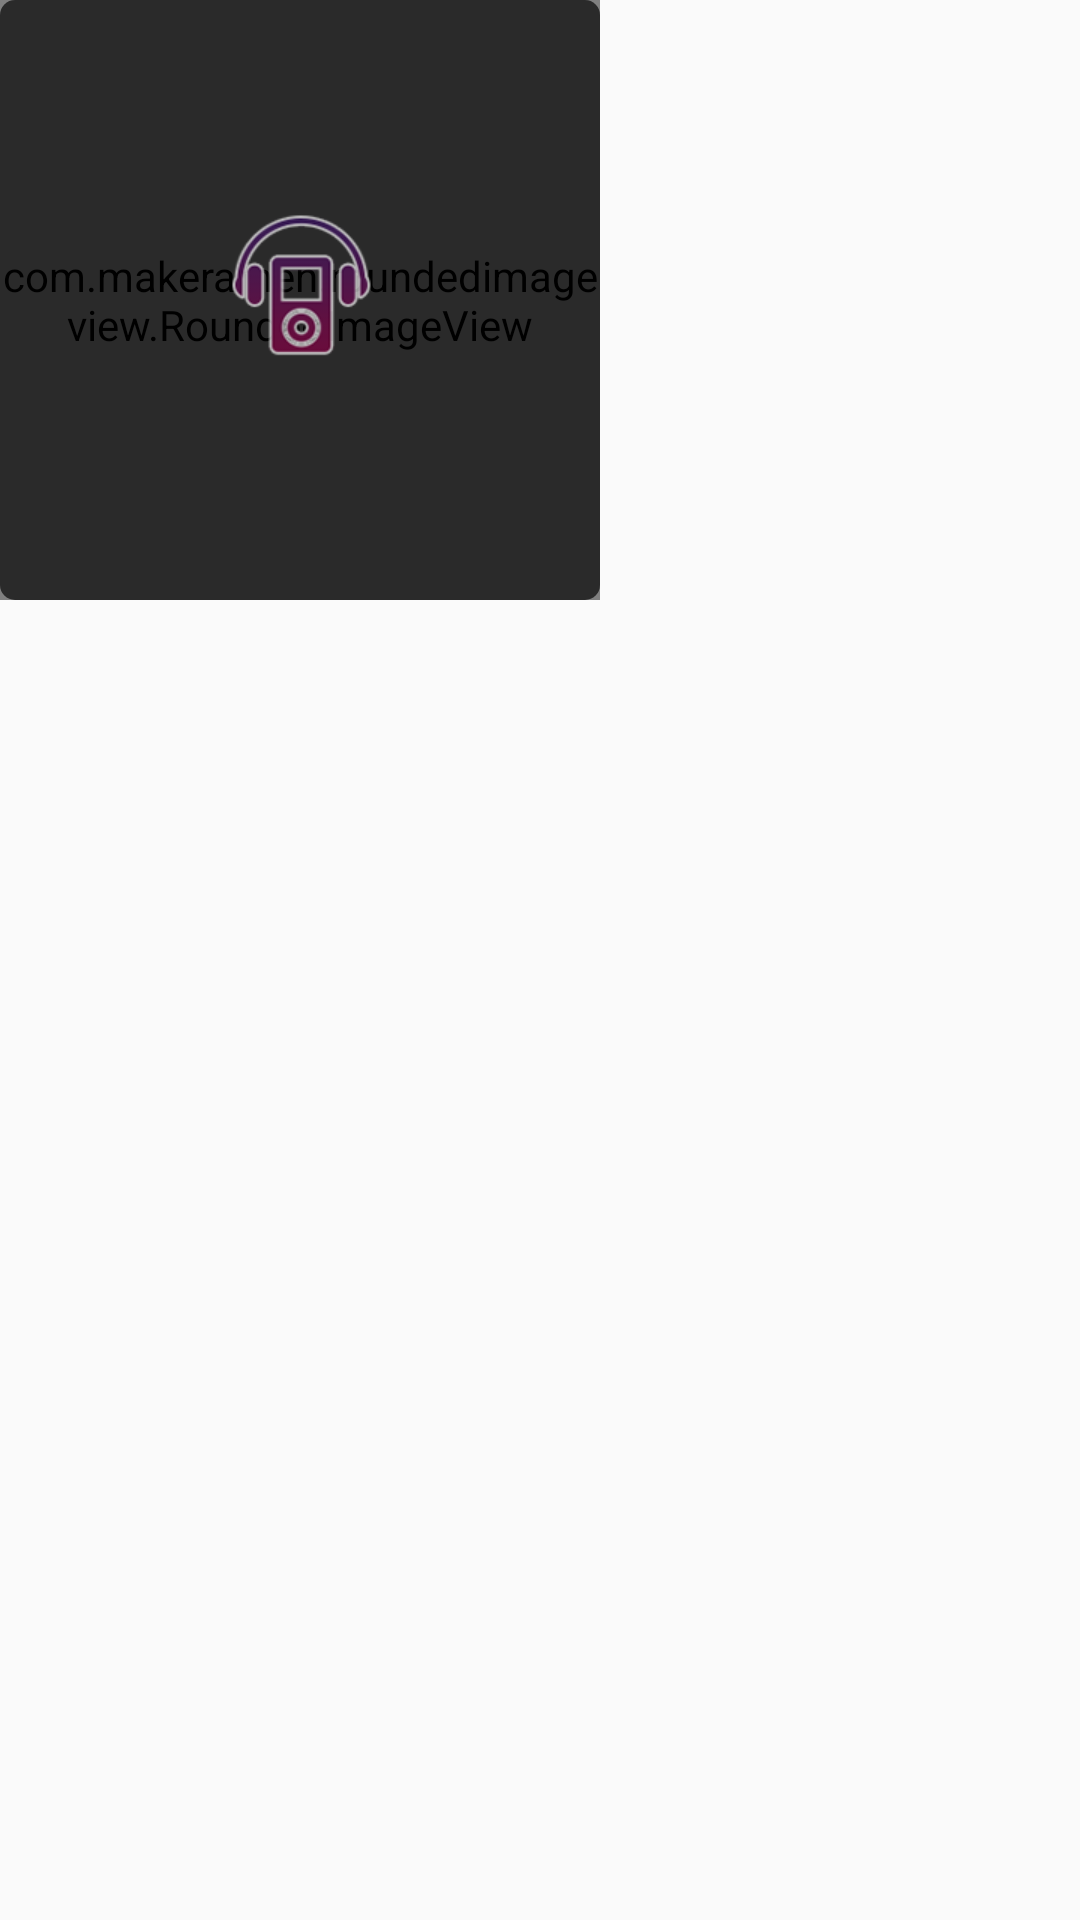

Icons on this 1080×1920 Android screen, each with its box as (x1, y1, x2, y2):
music: (225, 215, 375, 355)
